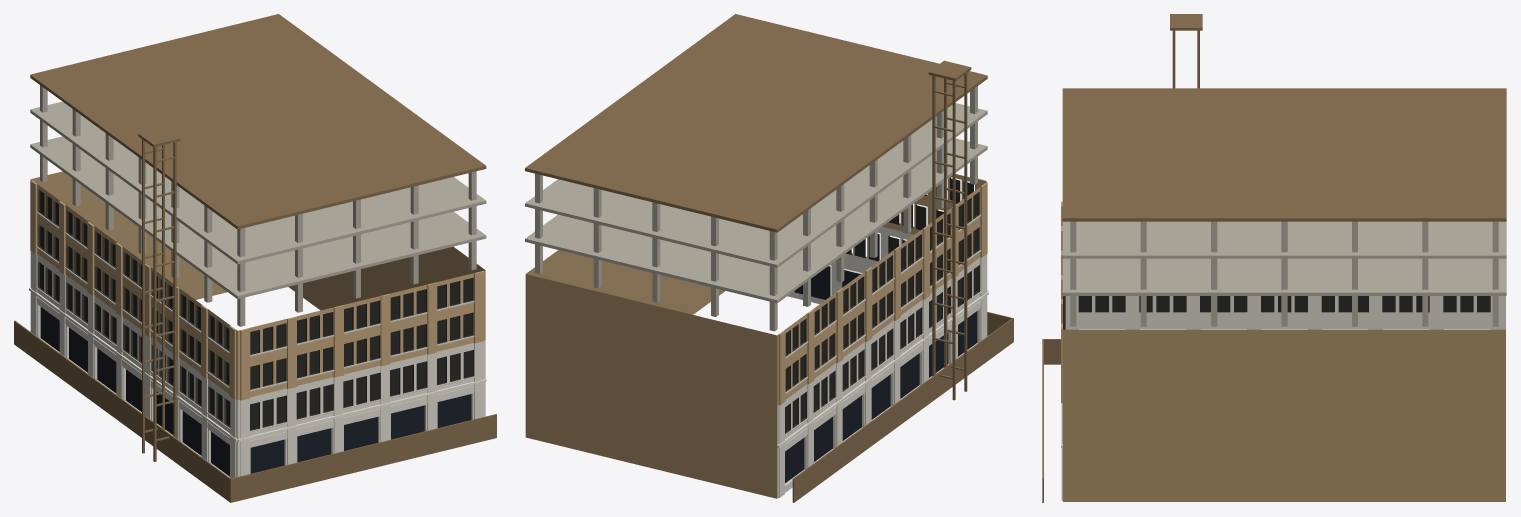
The model's file is gus-blass-co-department-store.glb.
3 renders of one model, left to right at view 1: azimuth 30°, elevation 25°; view 2: azimuth 150°, elevation 25°; view 3: azimuth 270°, elevation 25°, orthographic. The views are drawn at different scales.
Visible parts, largest first — view 1: gus_wood, gus_conc, gus_brick, gus_stone, gus_dark, gus_brick2, gus_glass, gus_sash, gus_trim2, gus_trim; view 2: gus_wood, gus_brick2, gus_conc, gus_stone, gus_brick, gus_dark, gus_glass, gus_sash, gus_trim2, gus_trim; view 3: gus_brick2, gus_wood, gus_conc, gus_stone, gus_dark.
Boxes of the visible parts, x1,y1,x2,y2 form: gus_wood: (14, 14, 496, 502); gus_conc: (30, 85, 486, 326); gus_brick: (30, 179, 485, 400); gus_stone: (30, 251, 485, 478); gus_dark: (40, 191, 473, 429); gus_brick2: (31, 171, 485, 310); gus_glass: (40, 307, 471, 476); gus_sash: (38, 189, 473, 430); gus_trim2: (36, 211, 474, 432); gus_trim: (29, 287, 486, 441); gus_wood: (525, 14, 1013, 502); gus_brick2: (525, 250, 777, 498); gus_conc: (525, 86, 987, 331); gus_stone: (777, 226, 987, 498); gus_brick: (777, 174, 987, 405); gus_dark: (785, 178, 977, 432); gus_glass: (785, 266, 977, 483); gus_sash: (785, 177, 979, 433); gus_trim2: (784, 194, 981, 436); gus_trim: (777, 290, 988, 447); gus_brick2: (1063, 329, 1505, 501); gus_wood: (1042, 14, 1506, 502); gus_conc: (1062, 221, 1506, 326); gus_stone: (1061, 296, 1505, 500); gus_dark: (1078, 296, 1490, 312).
Size of the model in its own units: 34.1 by 36.6 by 45.15.
